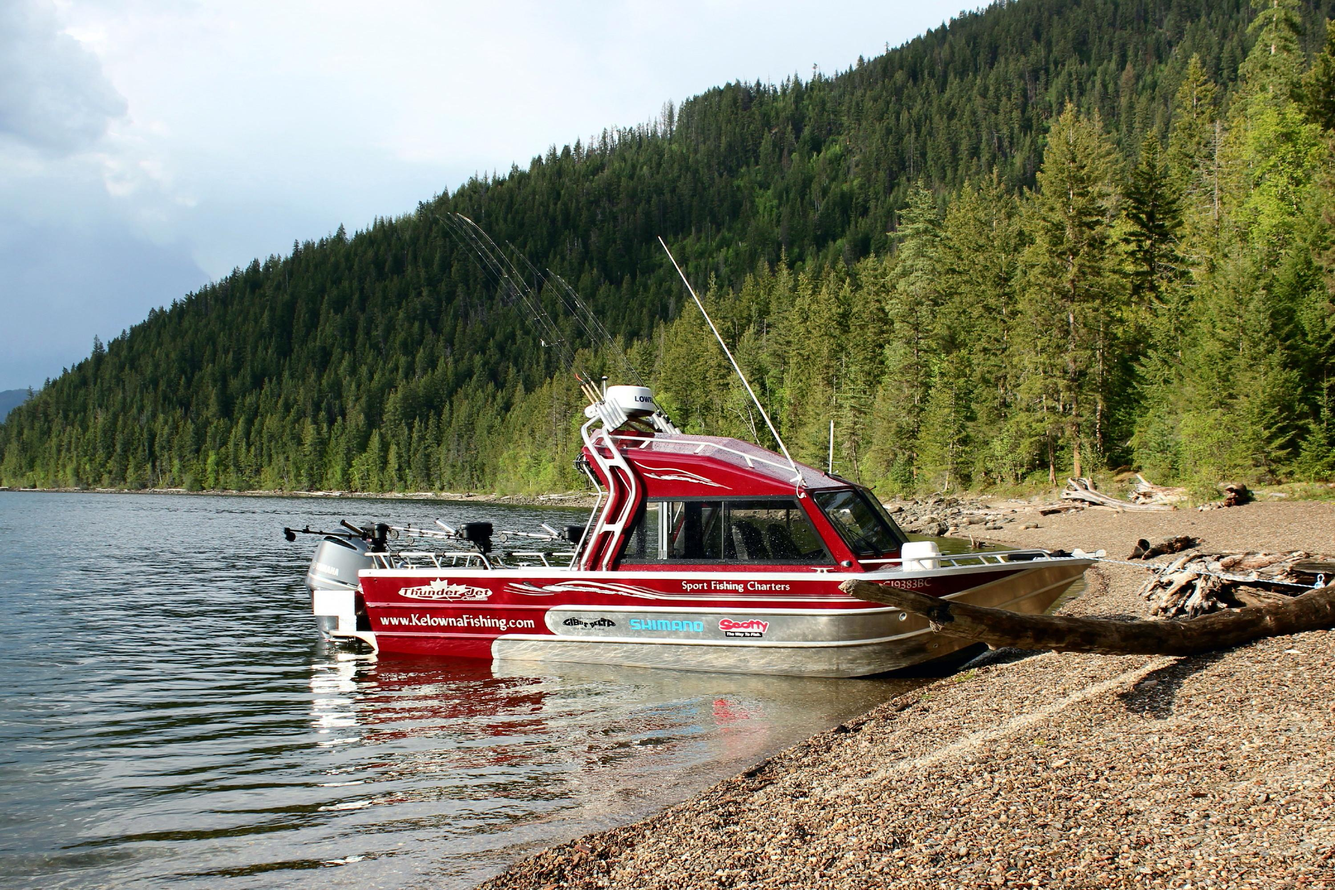fishing boat: (279, 189, 1115, 673)
